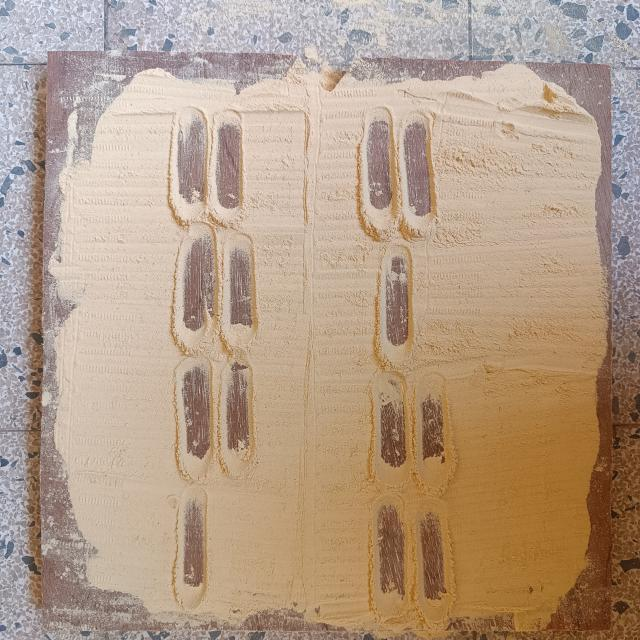double: (349, 106, 448, 248), (362, 368, 459, 503), (360, 497, 460, 626), (168, 226, 264, 356), (163, 102, 257, 230), (170, 356, 262, 482)
single: (376, 242, 420, 372), (172, 486, 215, 608)
